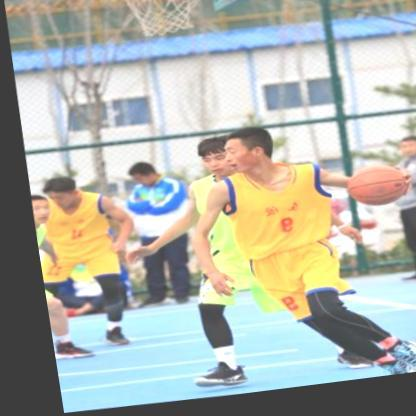basketball: (337, 171, 401, 217)
